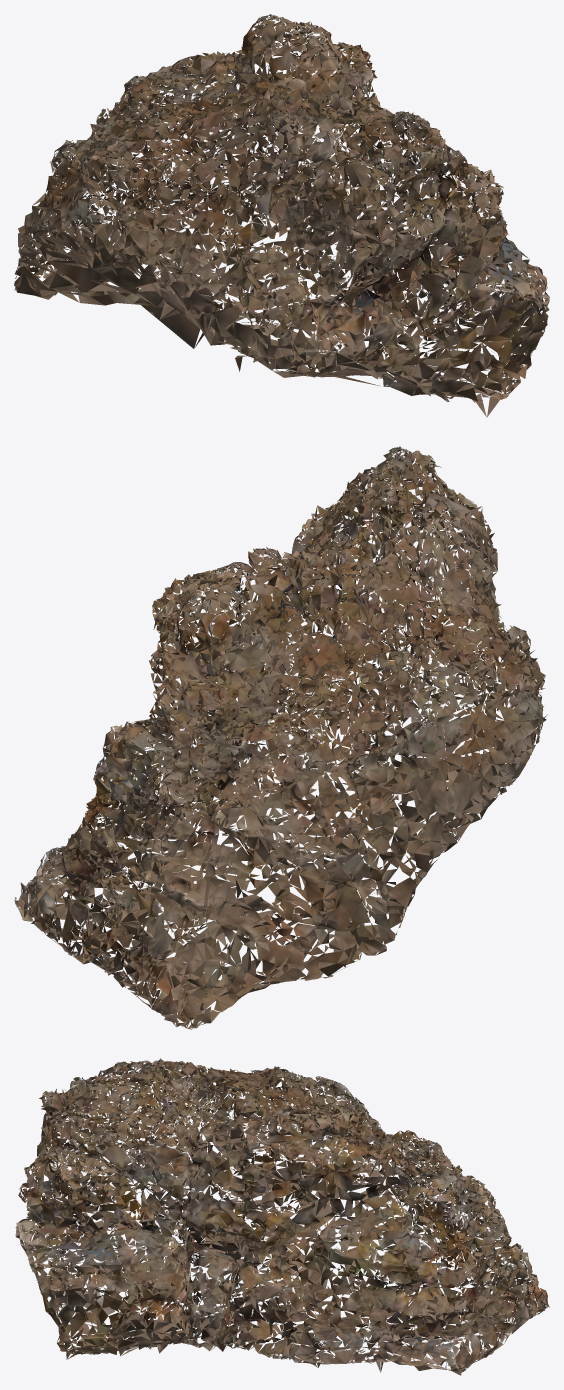
Rendered from env_boulder.glb.
The picture shows the model from 3 angles, top to bottom: view 1: azimuth 30°, elevation 25°; view 2: azimuth 150°, elevation 25°; view 3: azimuth 270°, elevation 25°; orthographic projection. The views are drawn at different scales.
Visible parts, largest first — view 1: ENV_boulder_01; view 2: ENV_boulder_01; view 3: ENV_boulder_01.
Part boxes in pixels (bbox=[...]): ENV_boulder_01: bbox=[14, 14, 549, 417]; ENV_boulder_01: bbox=[14, 446, 547, 1029]; ENV_boulder_01: bbox=[15, 1058, 549, 1375].
Bounding box in the file's own units: 3.03 × 2.4 × 4.37.
1 material, 1 textured.
